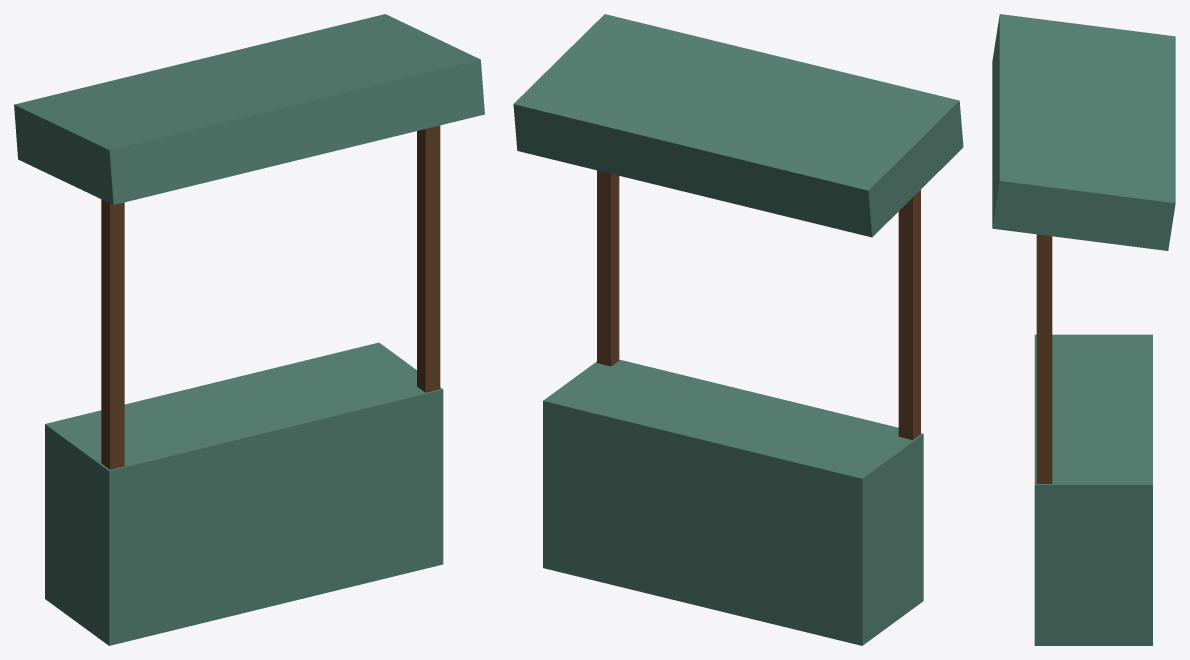
File: SM_ShopStall.fbx
The picture shows the model from 3 angles, left to right: view 1: azimuth 30°, elevation 25°; view 2: azimuth 150°, elevation 25°; view 3: azimuth 270°, elevation 25°; orthographic projection. The views are drawn at different scales.
Visible parts, largest first — view 1: Counter, Awning, Post_Right, Post_Left; view 2: Counter, Awning, Post_Right, Post_Left; view 3: Awning, Counter, Post_Left.
Part boxes in pixels (left/top/right/bottom): Counter: left=45, top=342, right=443, bottom=645; Awning: left=14, top=14, right=484, bottom=204; Post_Right: left=101, top=199, right=124, bottom=469; Post_Left: left=417, top=125, right=440, bottom=392; Counter: left=543, top=359, right=923, bottom=645; Awning: left=513, top=14, right=963, bottom=237; Post_Right: left=898, top=190, right=920, bottom=439; Post_Left: left=597, top=170, right=619, bottom=366; Awning: left=992, top=14, right=1175, bottom=250; Counter: left=1034, top=334, right=1152, bottom=645; Post_Left: left=1036, top=234, right=1052, bottom=483.
Size of the model in its own units: 2 by 2.65 by 0.9288.
